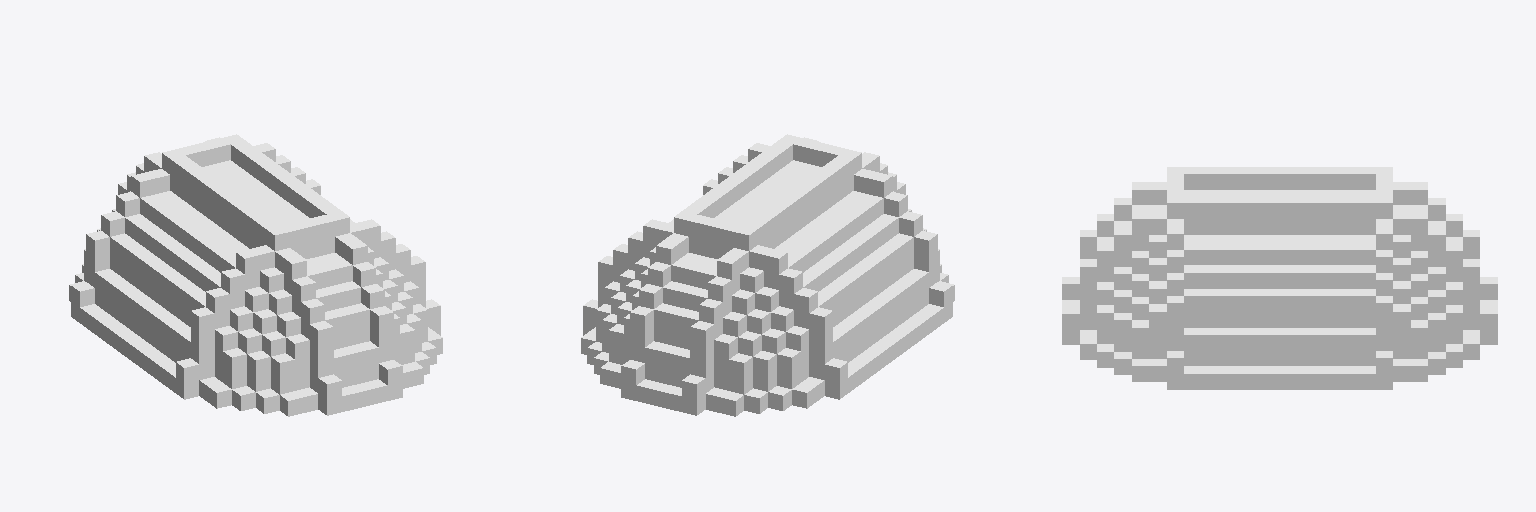
Rendered from oval_wire.obj.
3 renders of one model, left to right at view 1: azimuth 30°, elevation 25°; view 2: azimuth 150°, elevation 25°; view 3: azimuth 270°, elevation 25°, orthographic.
Visible parts, largest first — view 1: object 1; view 2: object 1; view 3: object 1.
Boxes of the visible parts, x1=… form: object 1: x1=69, y1=134, x2=442, y2=416; object 1: x1=581, y1=134, x2=954, y2=416; object 1: x1=1062, y1=167, x2=1497, y2=389.
Size of the model in its own units: 1.7 by 0.9 by 2.5.